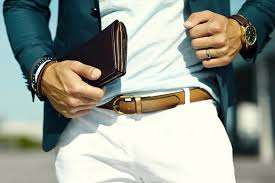F_belt: (92, 83, 226, 116)
